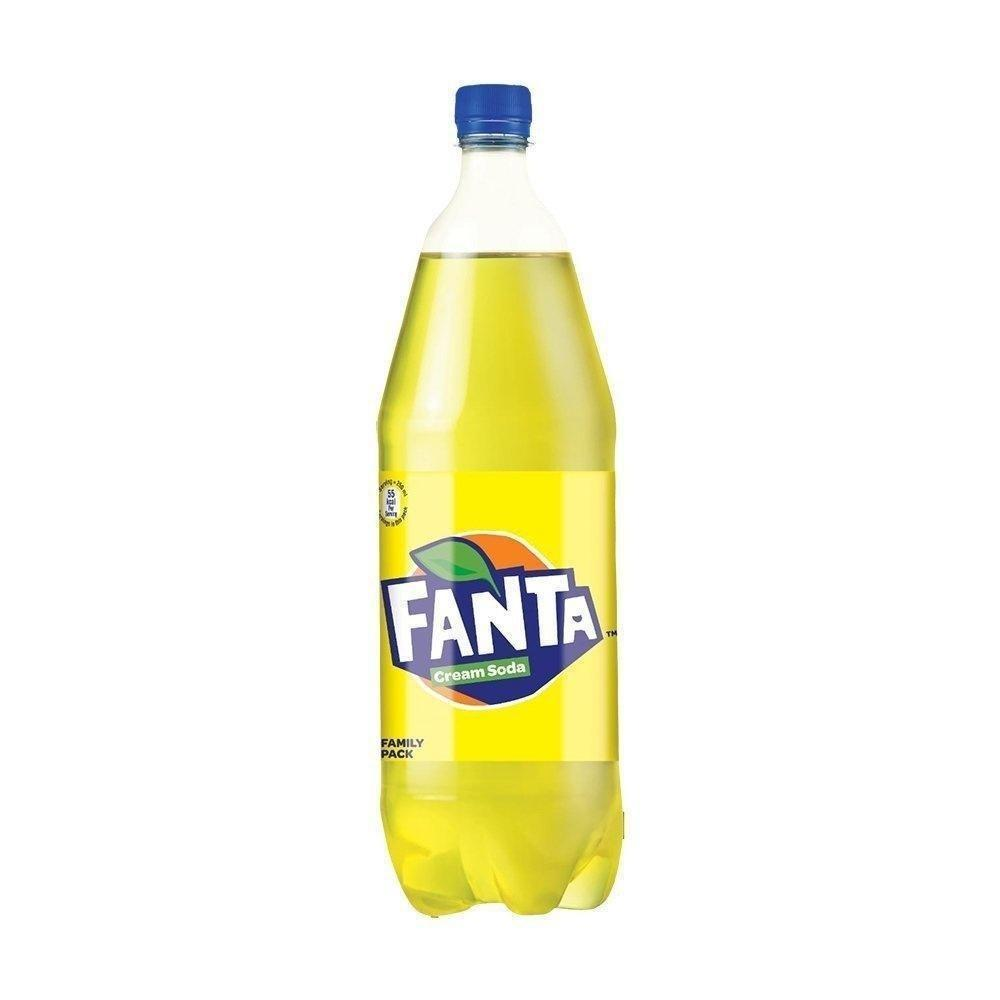bottle-plastic: (370, 79, 628, 939)
